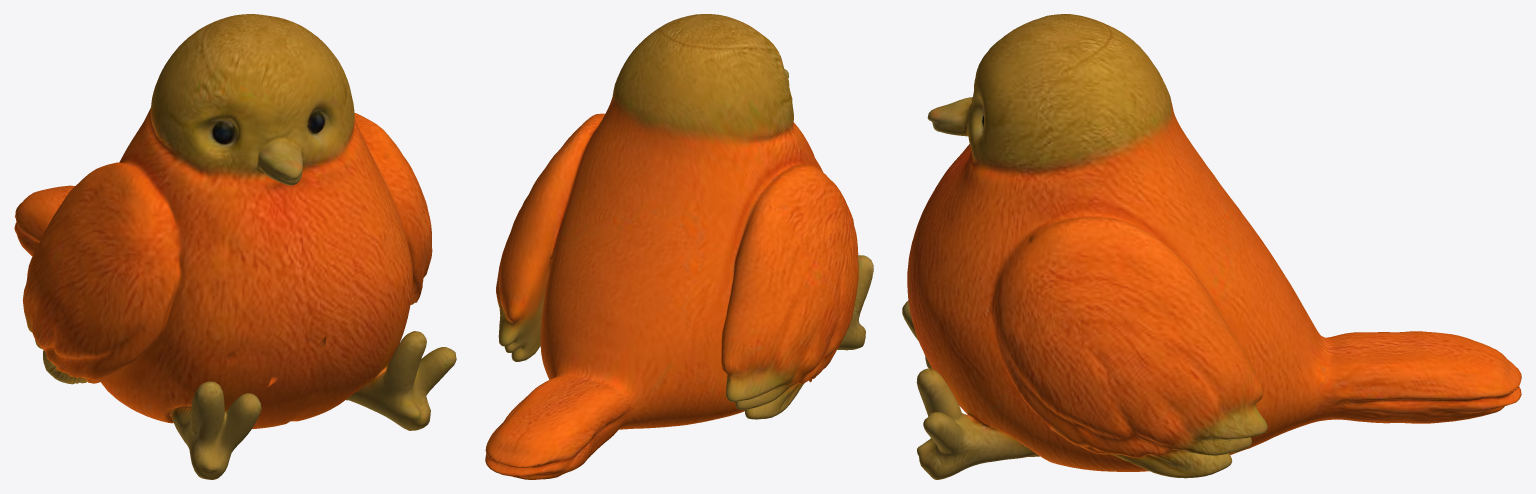
The model's file is otto.glb.
3 renders of one model, left to right at view 1: azimuth 30°, elevation 25°; view 2: azimuth 150°, elevation 25°; view 3: azimuth 270°, elevation 25°, orthographic. The views are drawn at different scales.
Visible parts, largest first — view 1: otto; view 2: otto; view 3: otto.
Part boxes in pixels (bbox=[...]): otto: bbox=[14, 14, 456, 479]; otto: bbox=[485, 14, 873, 479]; otto: bbox=[902, 14, 1521, 479].
Bounding box in the file's own units: 0.5505 × 0.5723 × 0.8.
Materials: 1 (1 with a texture image).
